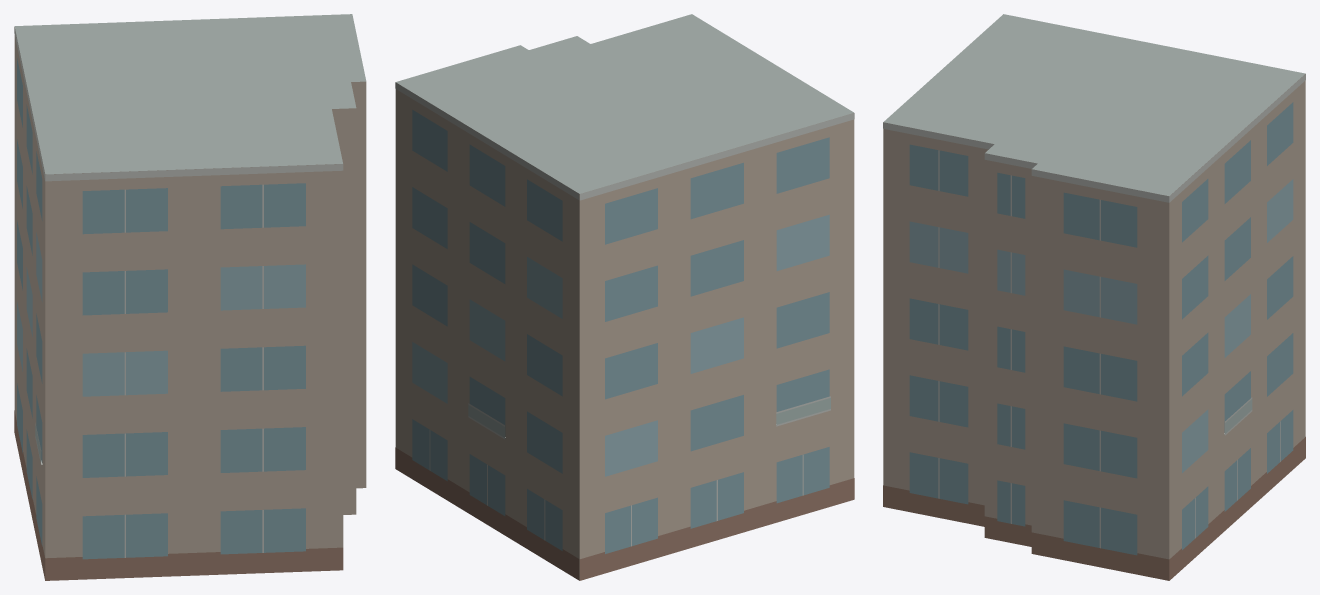
File: survey-upis-32931038.glb
3 renders of one model, left to right at view 1: azimuth 30°, elevation 25°; view 2: azimuth 150°, elevation 25°; view 3: azimuth 270°, elevation 25°, orthographic. The views are drawn at different scales.
Parts seen in each view (by area): view 1: survey-upis-32931038.tmp; view 2: survey-upis-32931038.tmp; view 3: survey-upis-32931038.tmp.
Boxes of the visible parts, <box> form: survey-upis-32931038.tmp: <box>14,14,366,580</box>; survey-upis-32931038.tmp: <box>395,14,854,580</box>; survey-upis-32931038.tmp: <box>883,14,1305,580</box>.
Bounding box in the file's own units: 14.49 × 14.25 × 14.2.
